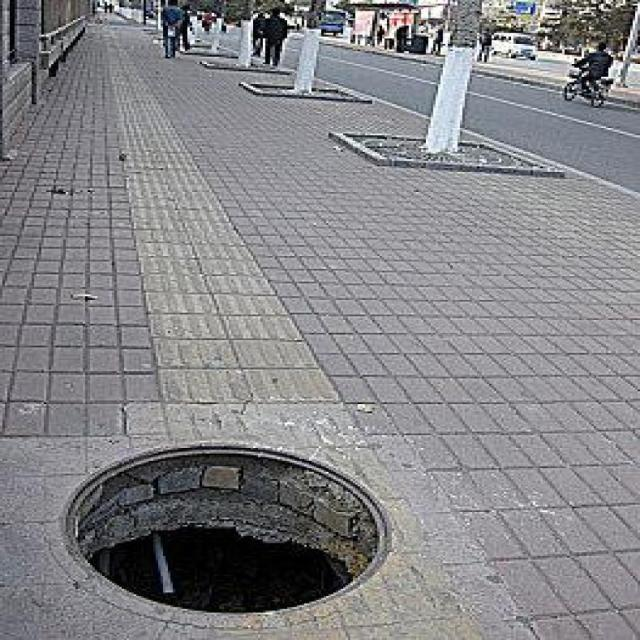hole: (74, 446, 385, 615)
